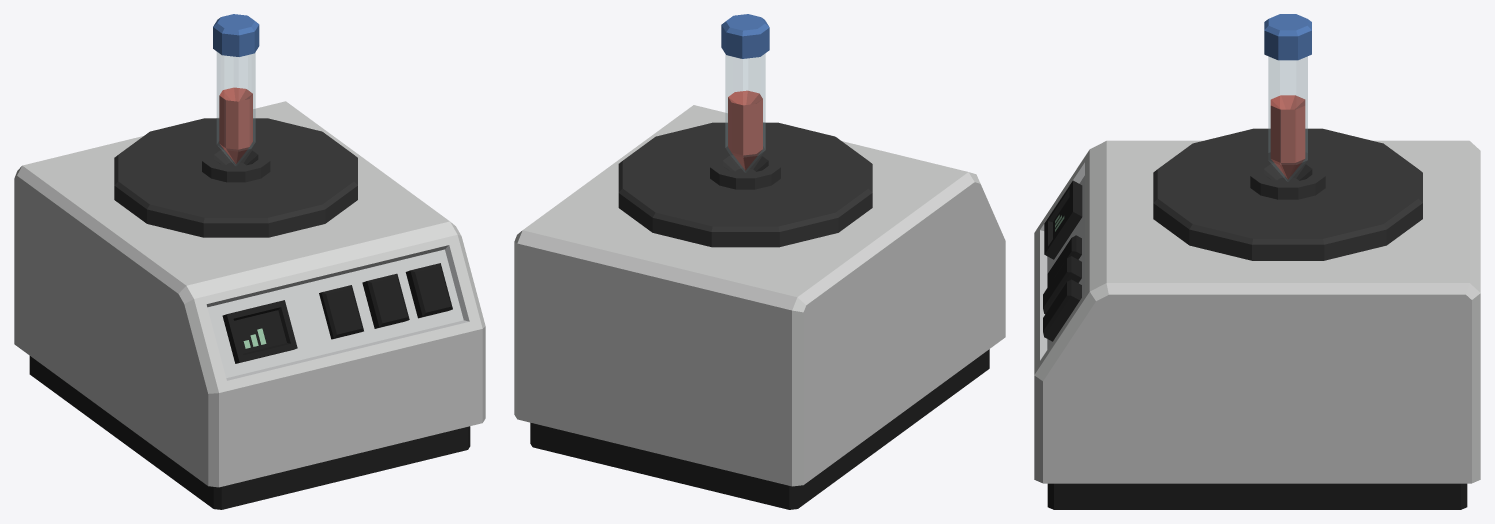
File: vortex-mixer-16aaab.glb
3 renders of one model, left to right at view 1: azimuth 30°, elevation 25°; view 2: azimuth 150°, elevation 25°; view 3: azimuth 270°, elevation 25°, orthographic. The views are drawn at different scales.
Visible parts, largest first — view 1: vortex-mixer, mixing-head, tube; view 2: vortex-mixer, mixing-head, tube; view 3: vortex-mixer, mixing-head, tube.
Boxes of the visible parts, bbox=[...] form: vortex-mixer: bbox=[14, 101, 485, 509]; mixing-head: bbox=[114, 118, 357, 237]; tube: bbox=[213, 14, 259, 165]; vortex-mixer: bbox=[514, 105, 1005, 509]; mixing-head: bbox=[618, 122, 872, 247]; tube: bbox=[721, 14, 769, 172]; vortex-mixer: bbox=[1034, 140, 1480, 509]; mixing-head: bbox=[1153, 128, 1422, 260]; tube: bbox=[1264, 14, 1311, 181].
Bounding box in the file's own units: 0.16 × 0.2085 × 0.2016.
